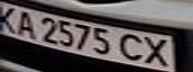2: (33, 15, 60, 45)
5: (90, 25, 118, 56), (54, 18, 75, 48)
7: (72, 21, 93, 53)
A: (12, 9, 39, 38)
C: (115, 32, 151, 63)
K: (0, 2, 21, 34)
X: (139, 34, 178, 69)
